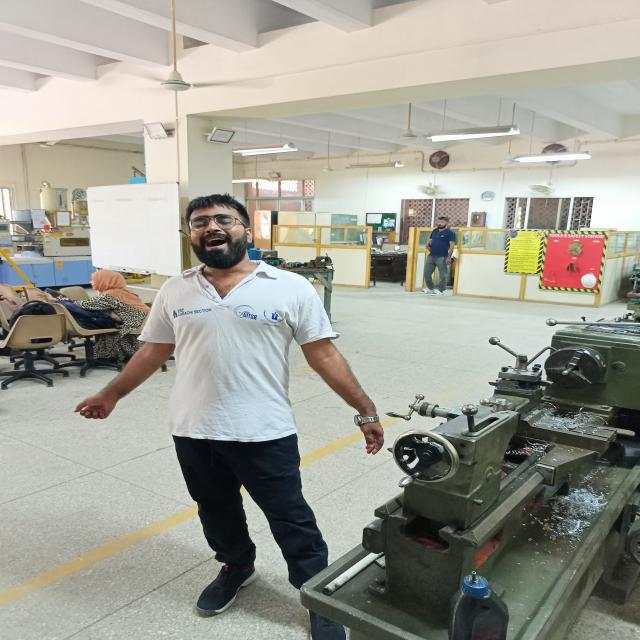dress: (134, 250, 342, 599), (84, 264, 155, 374), (424, 214, 458, 300)
glasses: (179, 214, 256, 233)
